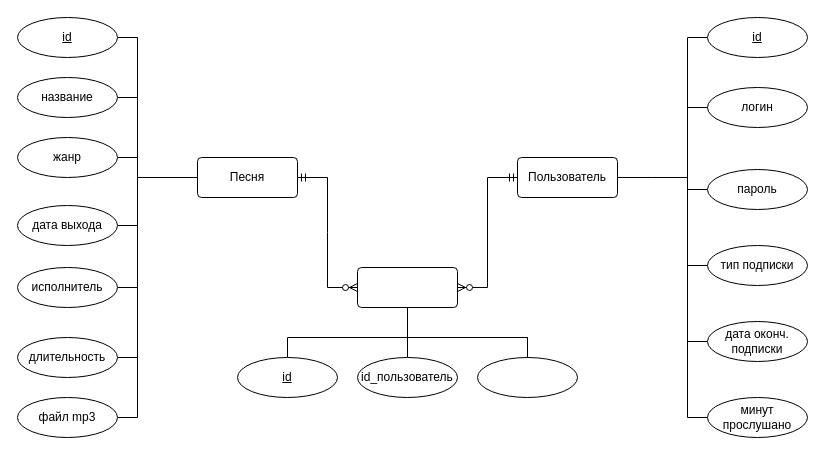
The diagram is 825 pixels wide and 455 high, and some of its shapes have lost their labels. The shapes that lost their labels are listed below. From the top down, each one's centre as x and y in pixels, then its label:
At point (407, 287): "Избранный трек".
At point (527, 377): "id_трек".
